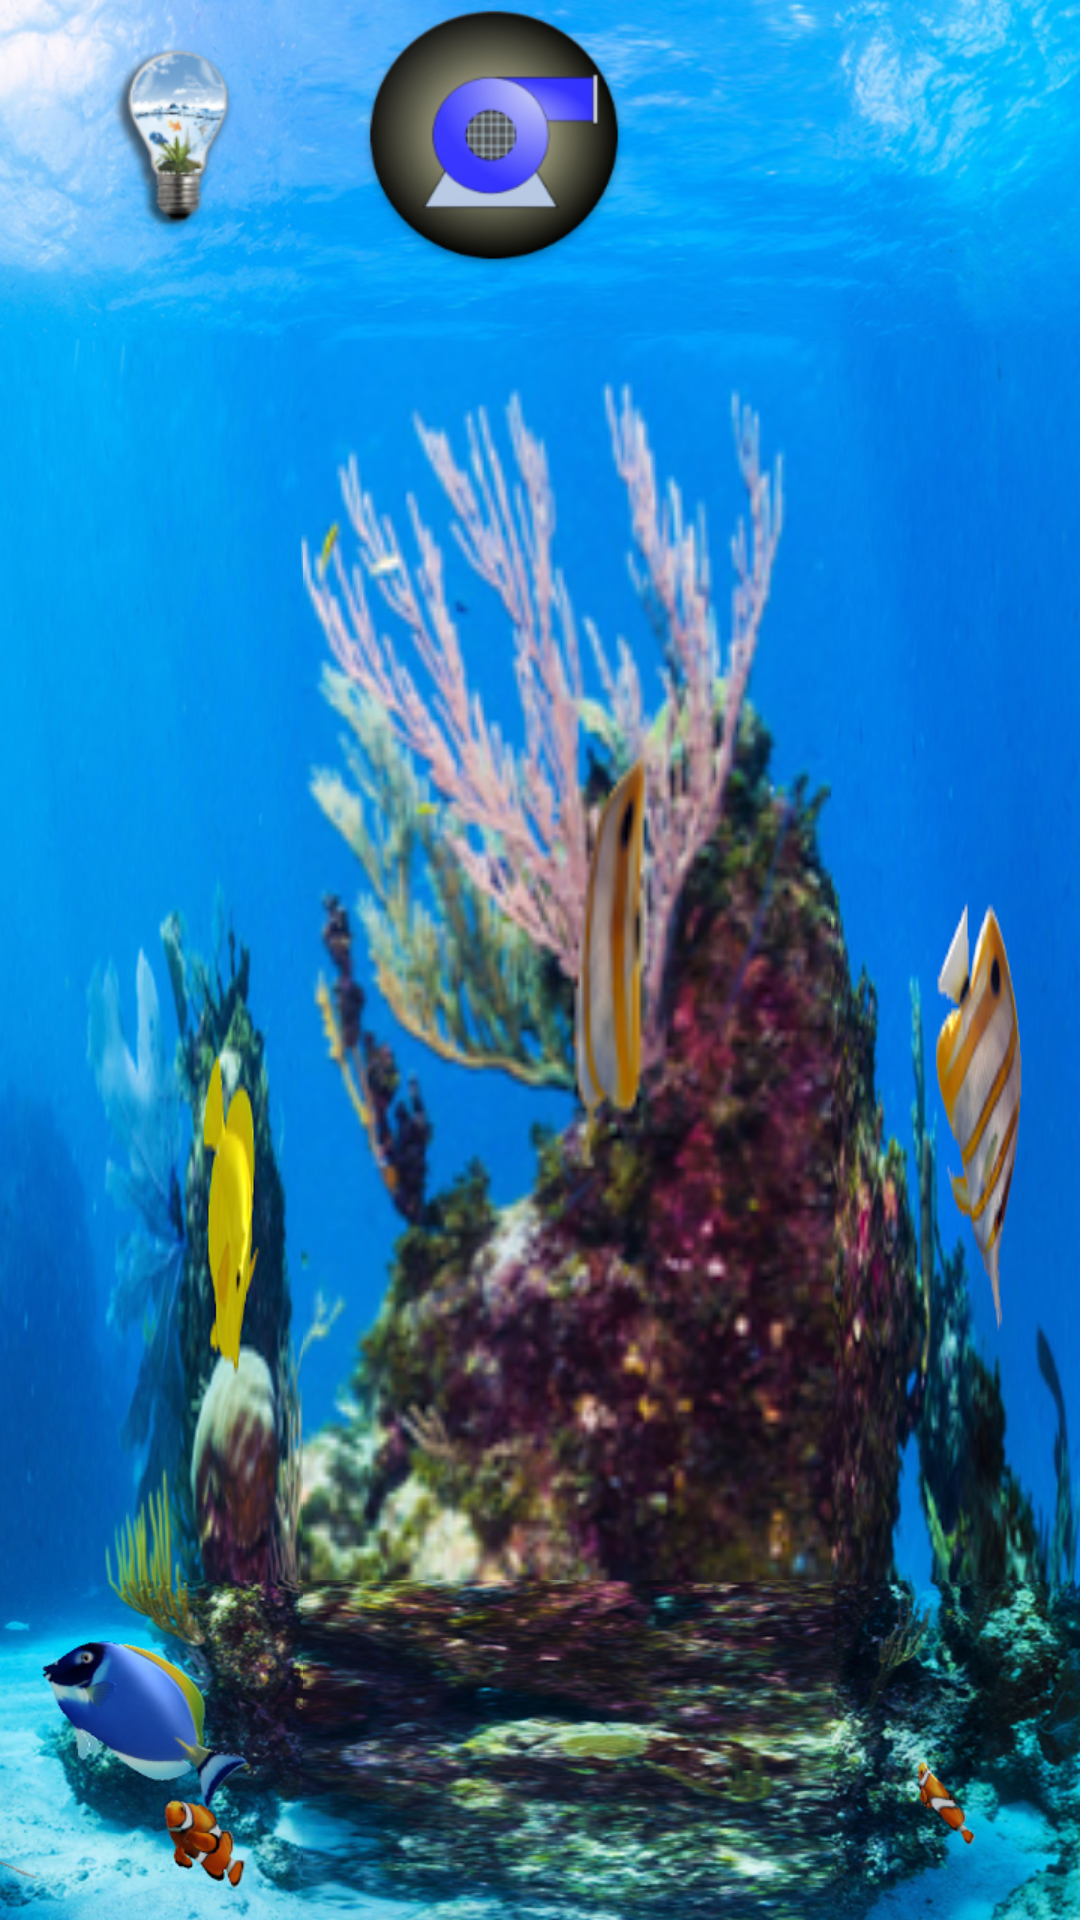

Point at icon controls on the screen. Image size 1080 × 1920, points as point (x, y).
motorbutton: point (494, 134)
